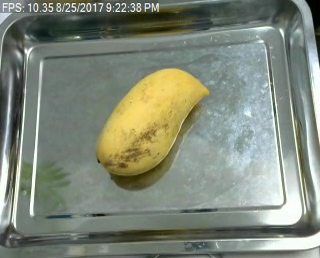Mango: (94, 65, 211, 178)
